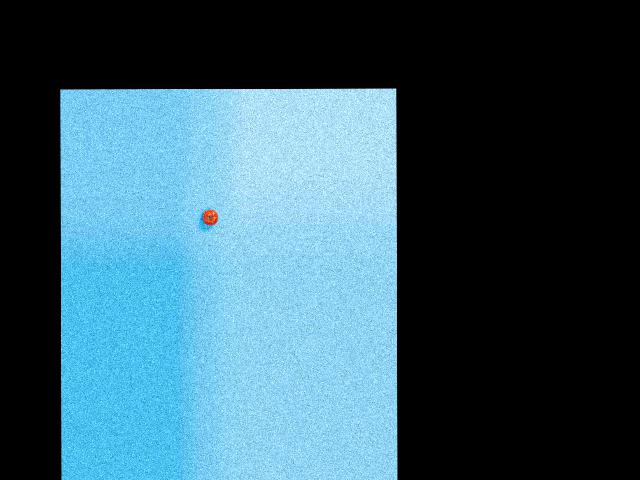tomato: (202, 210, 218, 226)
